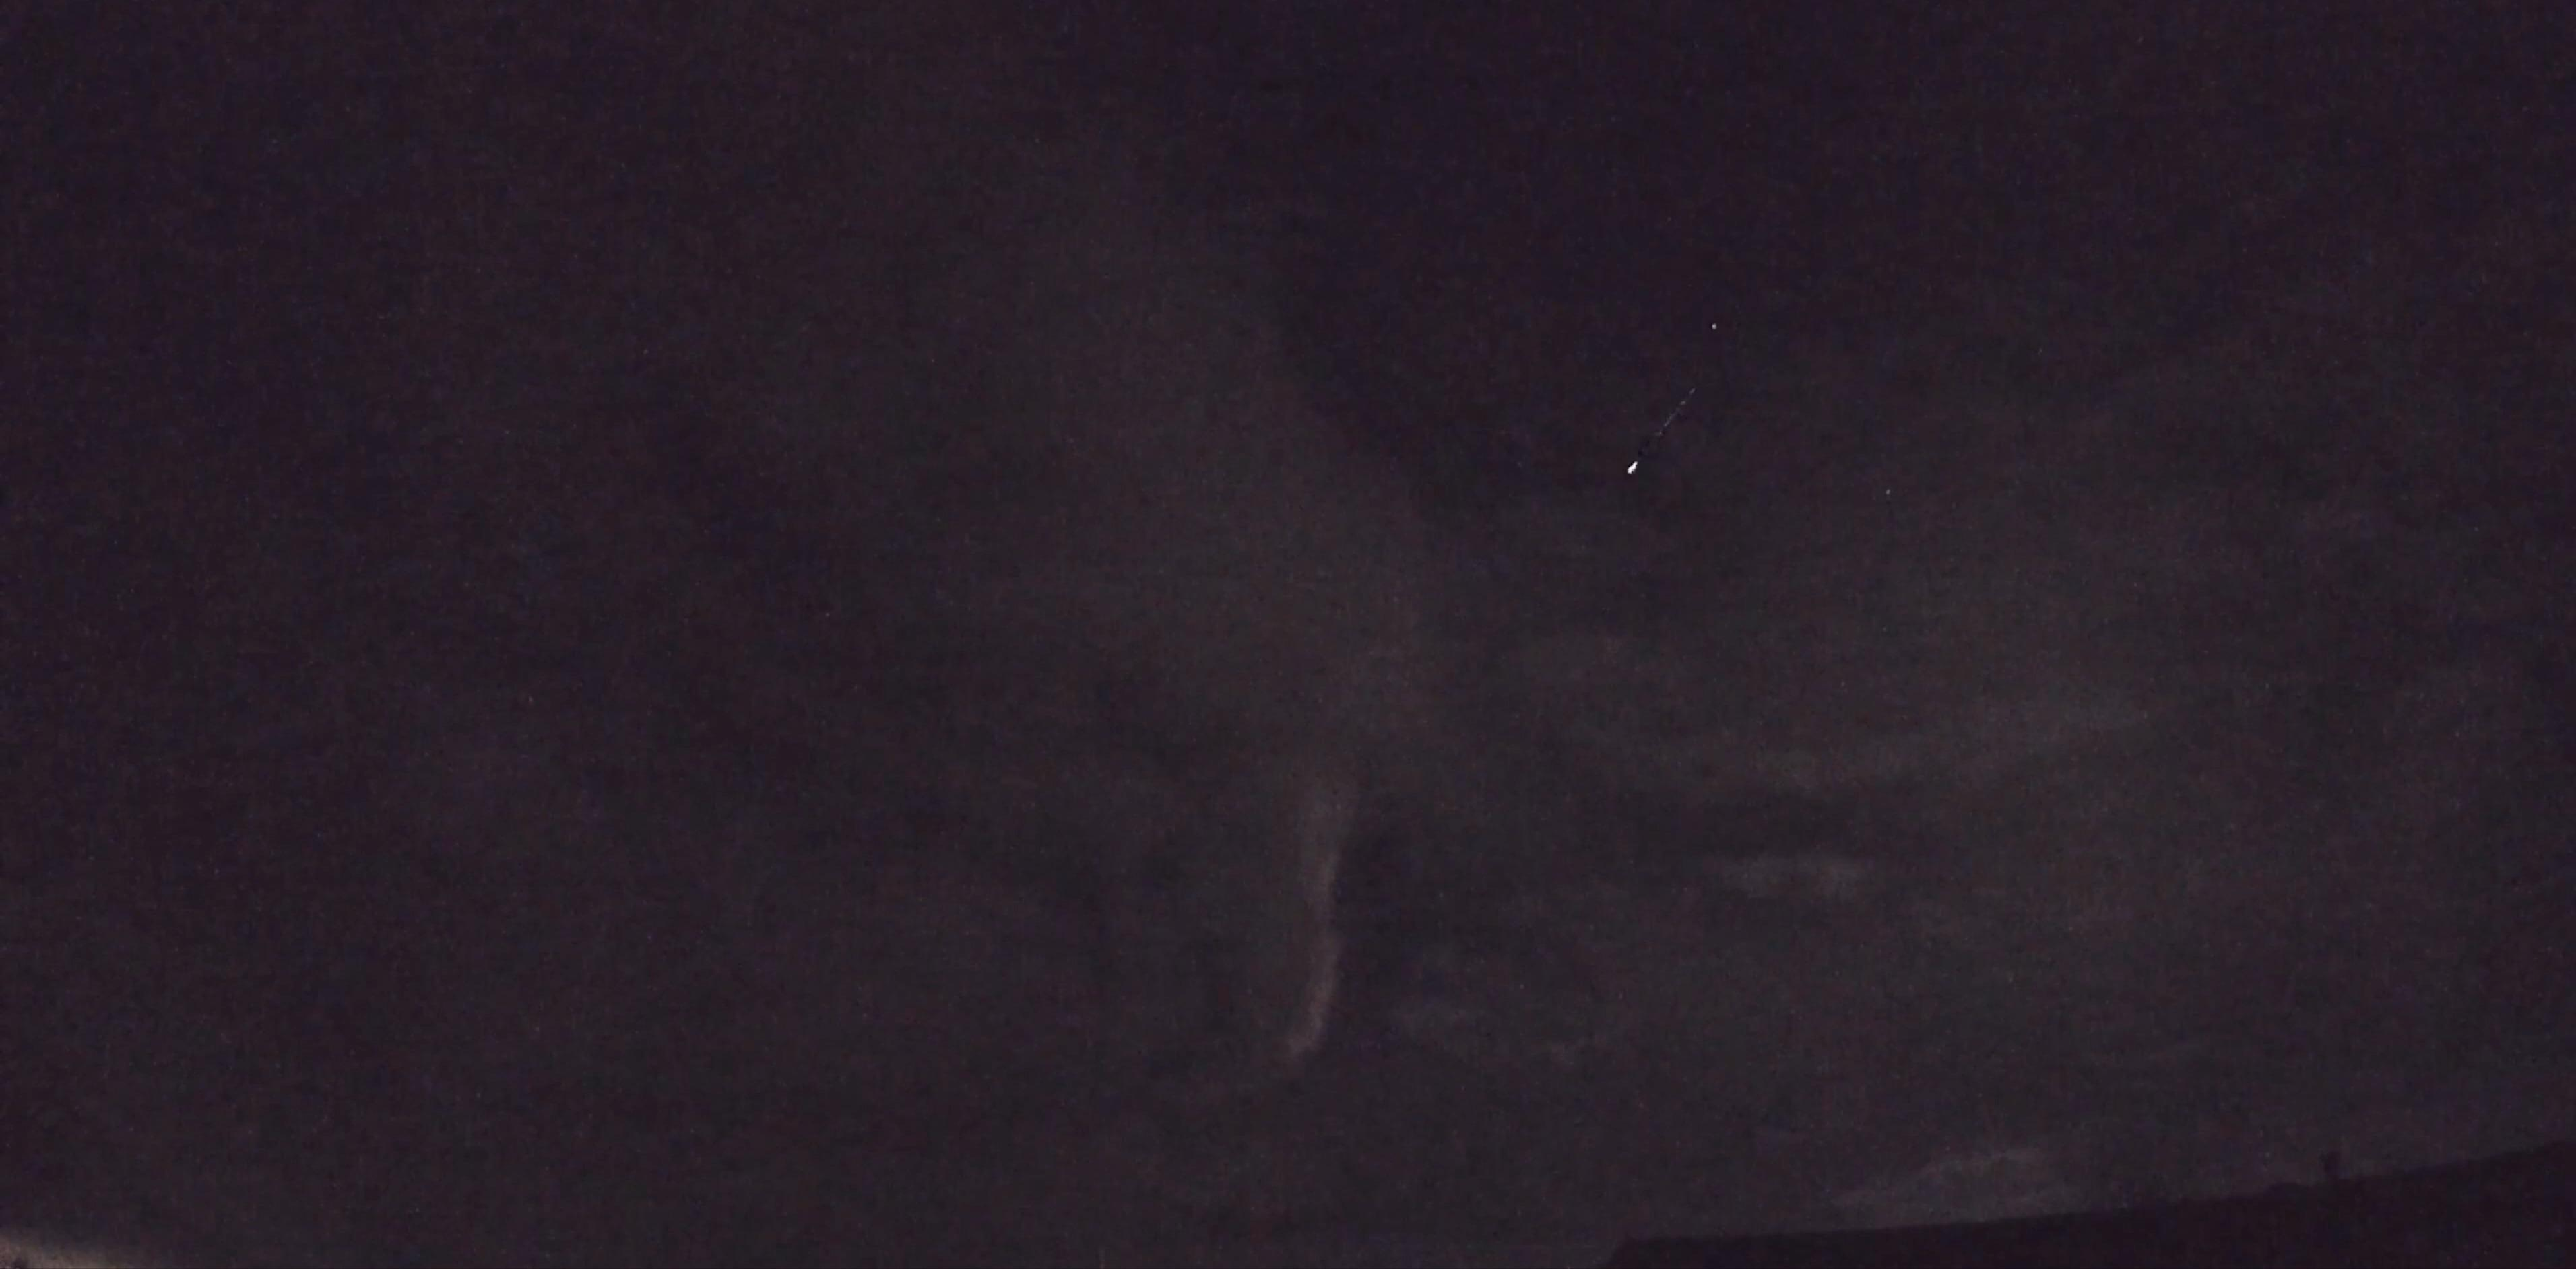meteorite: (1613, 373, 1707, 483)
